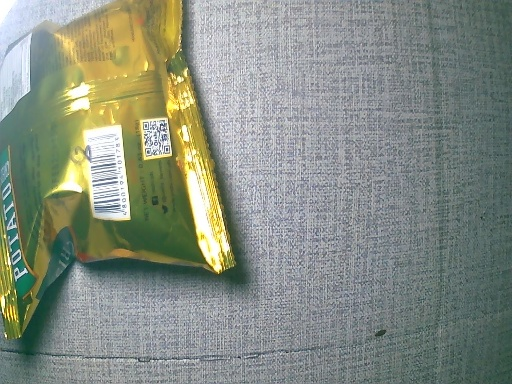plastic: (1, 1, 252, 350)
